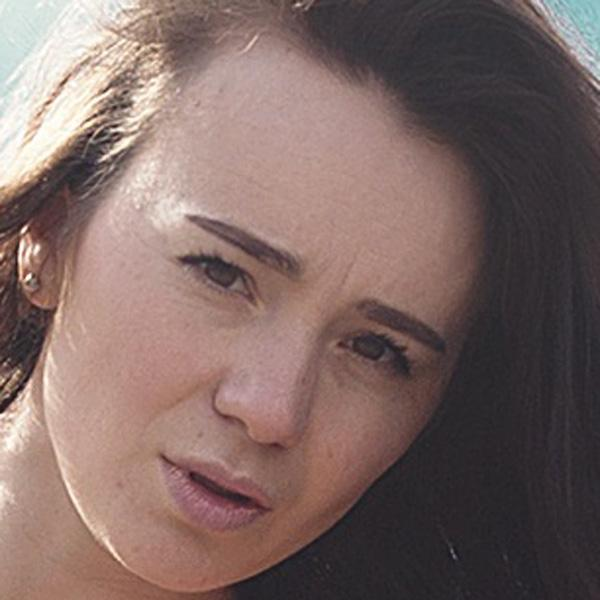Eyes: (174, 238, 266, 315), (335, 318, 416, 382)
